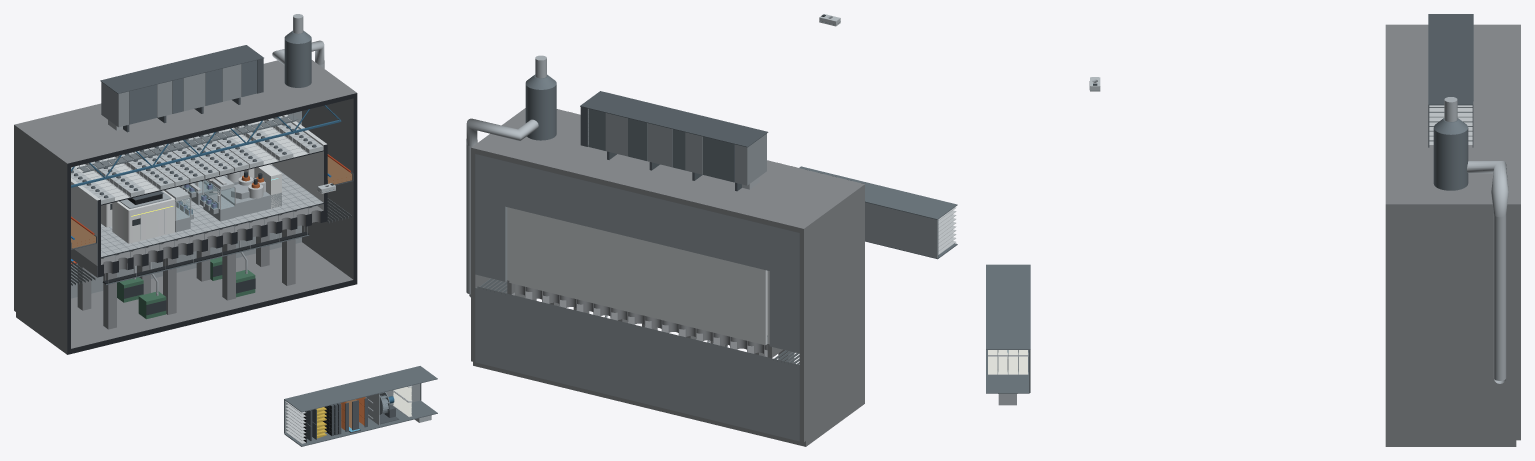
File: cleanroom.glb
The picture shows the model from 3 angles, left to right: view 1: azimuth 30°, elevation 25°; view 2: azimuth 150°, elevation 25°; view 3: azimuth 270°, elevation 25°; orthographic projection. The views are drawn at different scales.
Parts seen in each view (by area): view 1: L_sub__concrete, L_roof__concrete, L_ffu__ffu_body, L_room__concrete, L_waffle__concrete, L_roof__paint_grey, MAU_shell__paint_grey, L_room__tool_white, L_roof__steel_dark, L_floor__tile, L_roof__wall_grey, L_plenum__concrete (+23 smaller); view 2: L_sub__wall_grey, L_room__wall_white, L_roof__concrete, L_plenum__wall_grey, L_sub__concrete, L_room__concrete, L_roof__paint_grey, L_room__wall_grey, L_roof__steel_dark, L_waffle__concrete, L_roof__wall_grey, L_plenum__concrete (+5 smaller); view 3: L_roof__concrete, L_sub__concrete, L_room__concrete, L_plenum__concrete, MAU_shell__paint_grey, L_roof__steel_dark, L_roof__paint_grey, L_waffle__concrete, L_roof__duct, L_room__duct, MAU_10__media, L_roof__alu (+1 smaller).
Boxes of the visible parts, x1=… form: L_sub__concrete: x1=14, y1=196, x2=353, y2=354; L_roof__concrete: x1=14, y1=60, x2=356, y2=167; L_ffu__ffu_body: x1=71, y1=116, x2=323, y2=204; L_room__concrete: x1=14, y1=108, x2=353, y2=272; L_waffle__concrete: x1=14, y1=190, x2=353, y2=284; L_roof__paint_grey: x1=129, y1=30, x2=311, y2=124; MAU_shell__paint_grey: x1=284, y1=366, x2=437, y2=446; L_room__tool_white: x1=101, y1=164, x2=281, y2=243; L_roof__steel_dark: x1=100, y1=45, x2=263, y2=132; L_floor__tile: x1=101, y1=165, x2=323, y2=257; L_roof__wall_grey: x1=101, y1=64, x2=241, y2=127; L_plenum__concrete: x1=14, y1=98, x2=353, y2=207; L_sub__wall_grey: x1=475, y1=286, x2=799, y2=441; L_room__wall_white: x1=507, y1=207, x2=769, y2=345; L_roof__concrete: x1=471, y1=108, x2=864, y2=233; L_plenum__wall_grey: x1=475, y1=154, x2=799, y2=278; L_sub__concrete: x1=471, y1=278, x2=864, y2=446; L_room__concrete: x1=471, y1=198, x2=864, y2=354; L_roof__paint_grey: x1=525, y1=74, x2=734, y2=182; L_room__wall_grey: x1=475, y1=199, x2=799, y2=353; L_roof__steel_dark: x1=580, y1=91, x2=768, y2=191; L_waffle__concrete: x1=471, y1=273, x2=864, y2=367; L_roof__wall_grey: x1=605, y1=113, x2=766, y2=185; L_plenum__concrete: x1=471, y1=153, x2=864, y2=279; L_roof__concrete: x1=1385, y1=24, x2=1520, y2=209; L_sub__concrete: x1=1385, y1=358, x2=1520, y2=446; L_room__concrete: x1=1385, y1=260, x2=1520, y2=343; L_plenum__concrete: x1=1385, y1=210, x2=1520, y2=260; MAU_shell__paint_grey: x1=986, y1=264, x2=1030, y2=393; L_roof__steel_dark: x1=1428, y1=14, x2=1473, y2=147; L_roof__paint_grey: x1=1429, y1=107, x2=1472, y2=190; L_waffle__concrete: x1=1385, y1=343, x2=1520, y2=357; L_roof__duct: x1=1444, y1=97, x2=1508, y2=217; L_room__duct: x1=1493, y1=265, x2=1506, y2=350; MAU_10__media: x1=988, y1=350, x2=1027, y2=374; L_roof__alu: x1=1429, y1=105, x2=1472, y2=145.
Size of the model in its own units: 24.33 by 20.25 by 29.45.
Materials: 39 (1 with a texture image).
